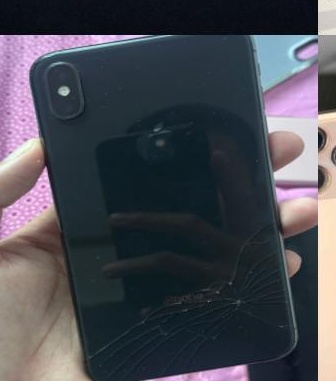physical_damage: (222, 214, 299, 348), (167, 264, 241, 361), (106, 284, 177, 380), (75, 318, 115, 381)
